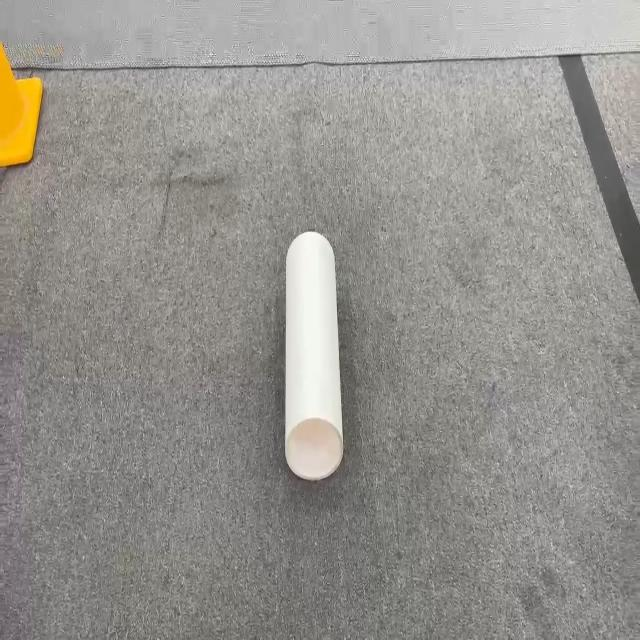coral: (284, 229, 344, 481)
